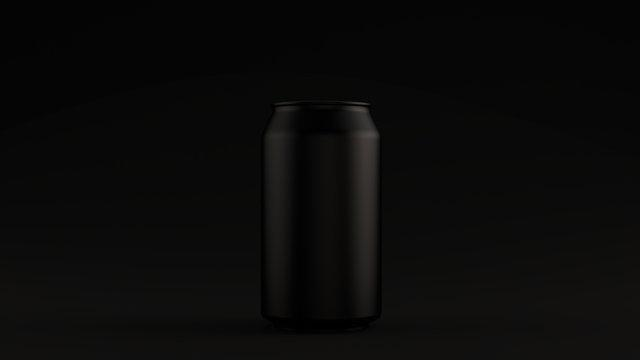tin can: (258, 96, 384, 335)
